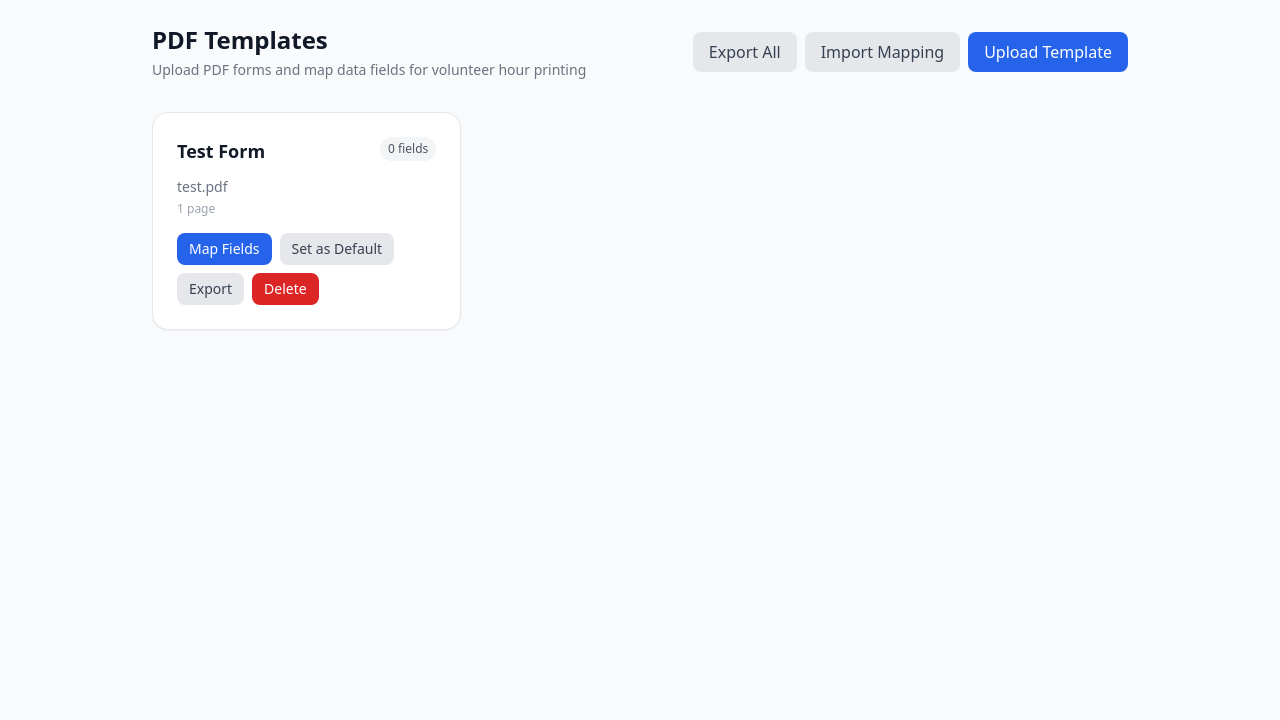
Scenario: PdfTemplatesPage › field mapper modal › should show detail table configuration when Place Detail Table is clicked
The image size is (1280, 720).
Click the button "Map Fields" at (224, 249), box top-left (177, 233), bottom-right (272, 265)
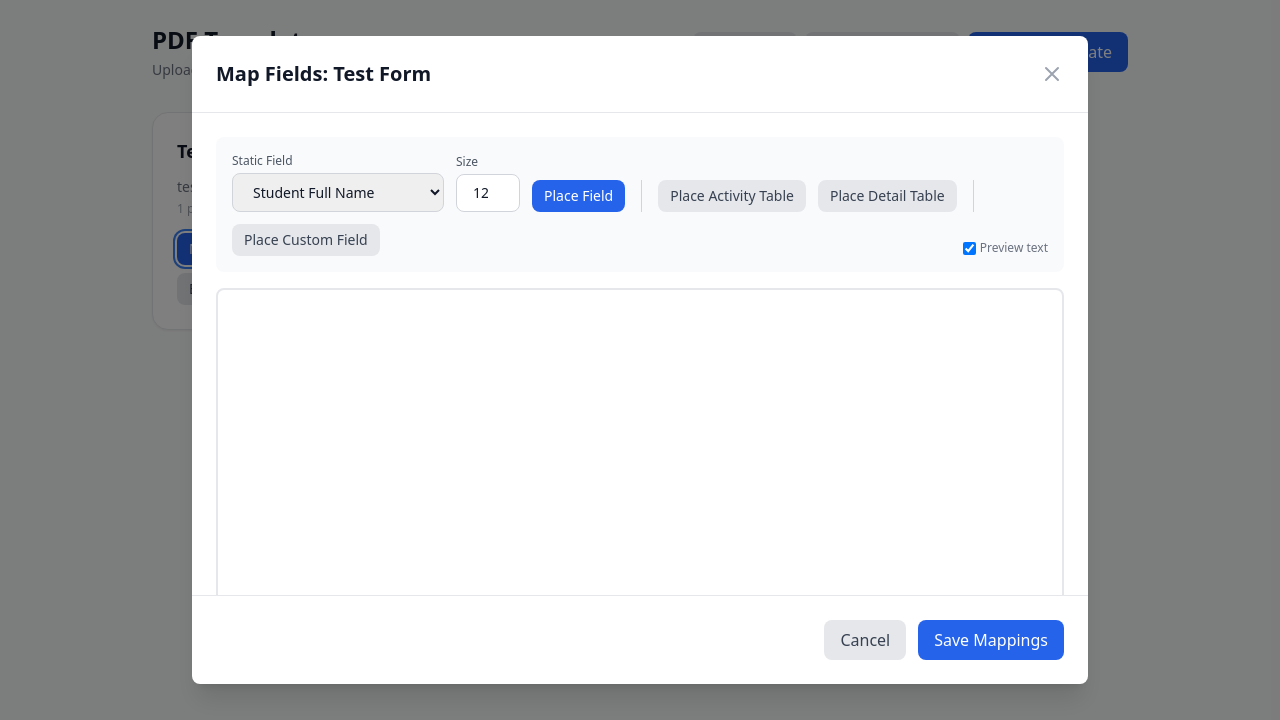
Check: the button "Place Detail Table" is shown
Click the button "Place Detail Table" at (887, 196), box top-left (818, 180), bottom-right (957, 212)
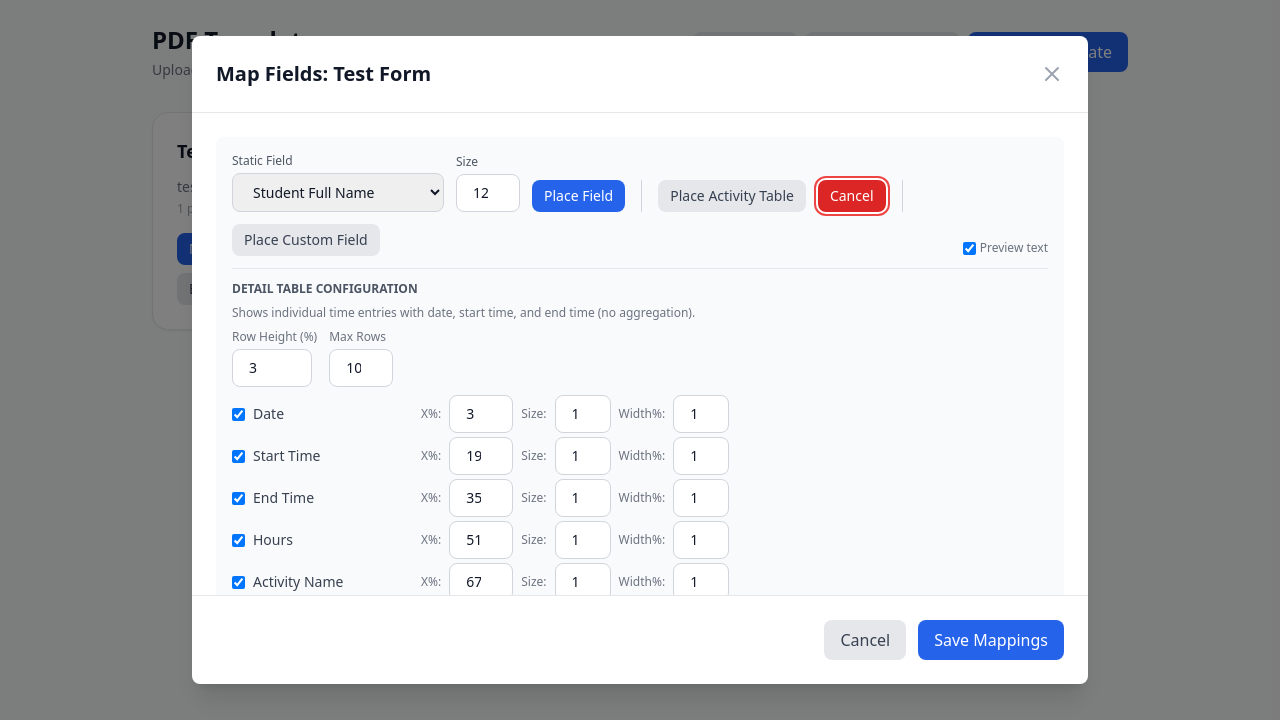
Check: the text "Detail Table Configuration" is shown, box top-left (232, 280), bottom-right (418, 297)
